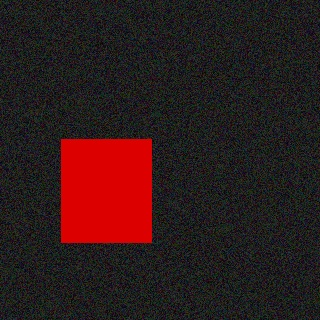red_barrel: (62, 140, 151, 242)
